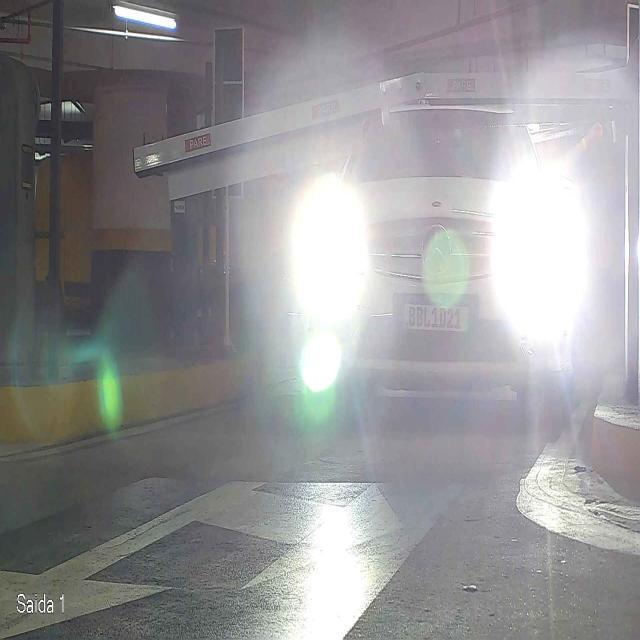mercosul_plate: (401, 296, 472, 334)
